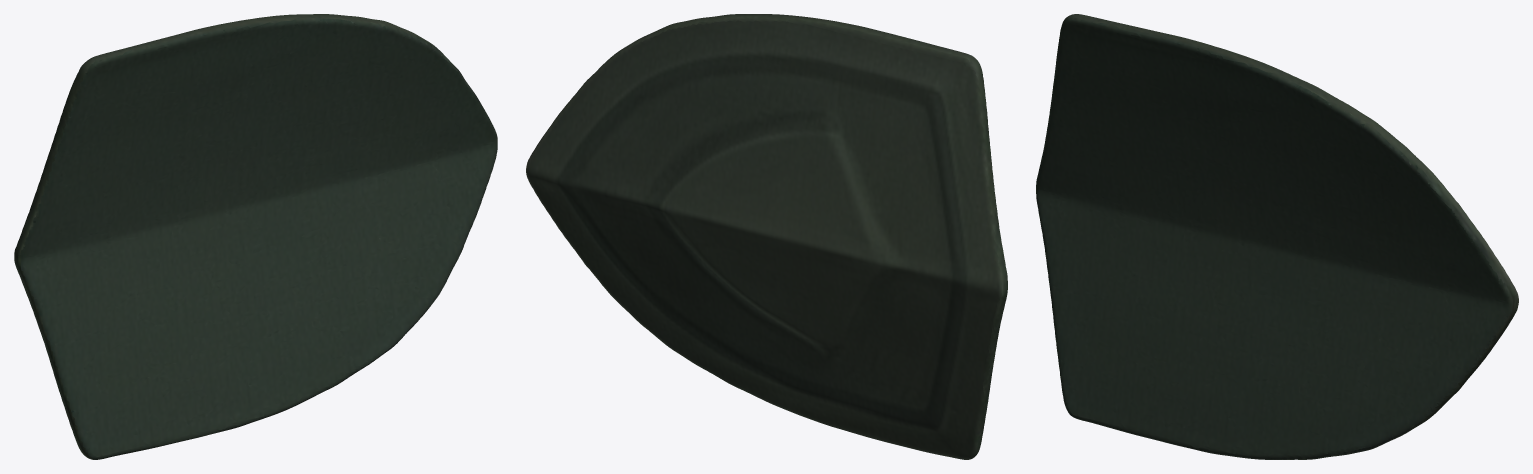
File: item_shield_knight.glb
3 renders of one model, left to right at view 1: azimuth 30°, elevation 25°; view 2: azimuth 150°, elevation 25°; view 3: azimuth 330°, elevation 25°, orthographic.
Visible parts, largest first — view 1: shield; view 2: shield; view 3: shield.
Boxes of the visible parts, x1=… form: shield: x1=14, y1=14, x2=497, y2=459; shield: x1=526, y1=14, x2=1007, y2=459; shield: x1=1036, y1=14, x2=1518, y2=459.
Size of the model in its own units: 2.45 by 2 by 0.2995.
1 material, 1 textured.
